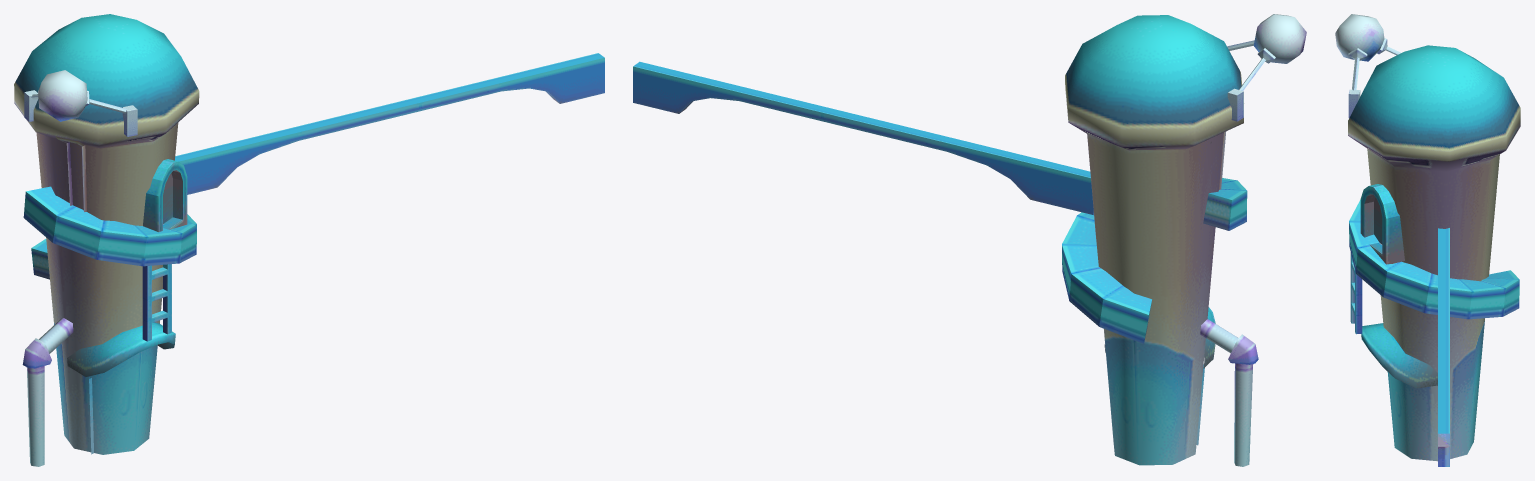
Rendered from cj_building8.fbx.
3 renders of one model, left to right at view 1: azimuth 30°, elevation 25°; view 2: azimuth 150°, elevation 25°; view 3: azimuth 270°, elevation 25°, orthographic. The views are drawn at different scales.
Parts seen in each view (by area): view 1: building8, bujian; view 2: building8, bujian; view 3: building8, bujian.
Boxes of the visible parts, x1,y1,x2,y2 form: building8: (14, 14, 199, 466); bujian: (175, 53, 604, 194); building8: (1062, 14, 1306, 466); bujian: (633, 61, 1093, 215); building8: (1335, 14, 1520, 461); bujian: (1438, 228, 1449, 466).
Bounding box in the file's own units: 7206 × 4728 × 2024.
